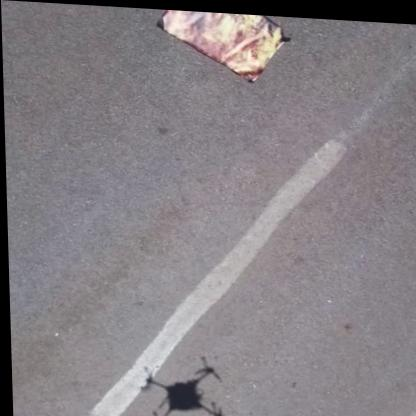fire-poster: (154, 7, 293, 83)
